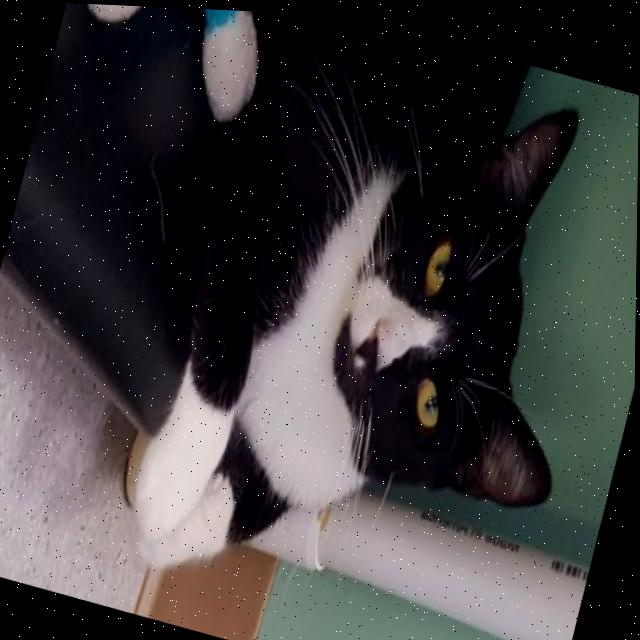Tuxedo: (113, 4, 640, 640)
